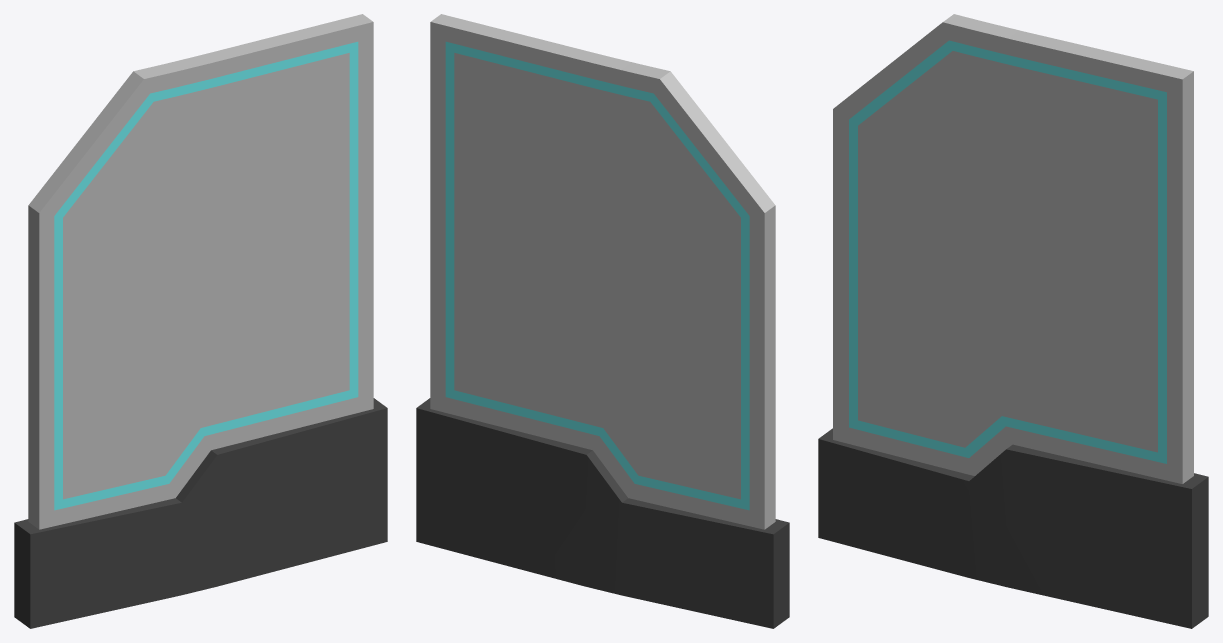
Rendered from key_card.fbx.
3 renders of one model, left to right at view 1: azimuth 30°, elevation 25°; view 2: azimuth 150°, elevation 25°; view 3: azimuth 330°, elevation 25°, orthographic. The views are drawn at different scales.
Visible parts, largest first — view 1: Key card; view 2: Key card; view 3: Key card.
Boxes of the visible parts, x1,y1,x2,y2 form: Key card: (14,14,387,628); Key card: (416,14,789,628); Key card: (818,14,1208,628).
Bounding box in the file's own units: 82.23 × 115 × 9.31.
